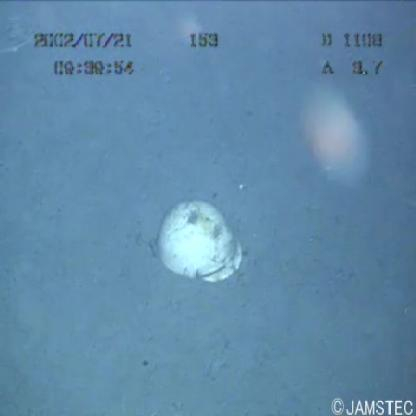Rác: (138, 191, 270, 296)
